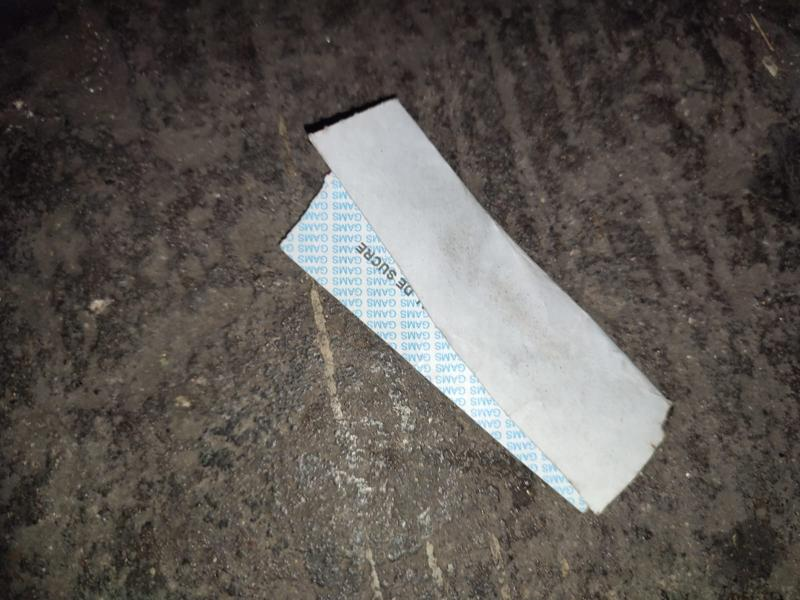papel: (279, 96, 673, 516)
